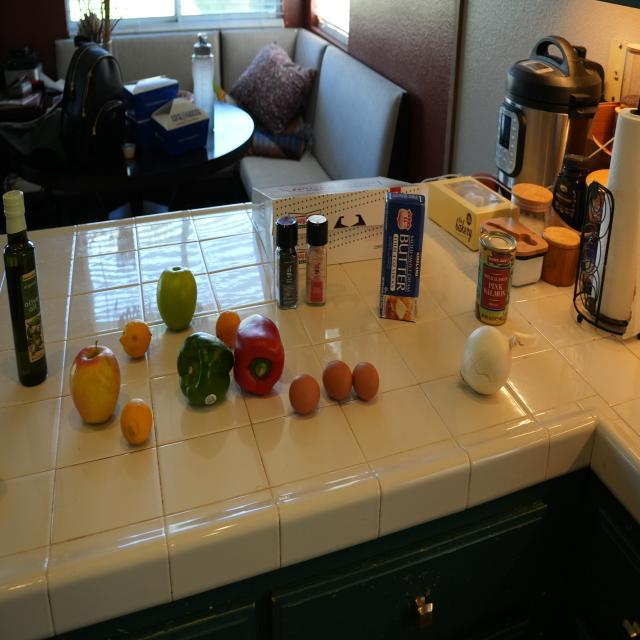bell_pepper: (230, 314, 288, 400), (174, 332, 239, 408), (274, 215, 306, 313)
egg: (287, 372, 323, 417), (324, 359, 356, 405), (355, 360, 384, 406)
onion: (457, 323, 520, 401)
